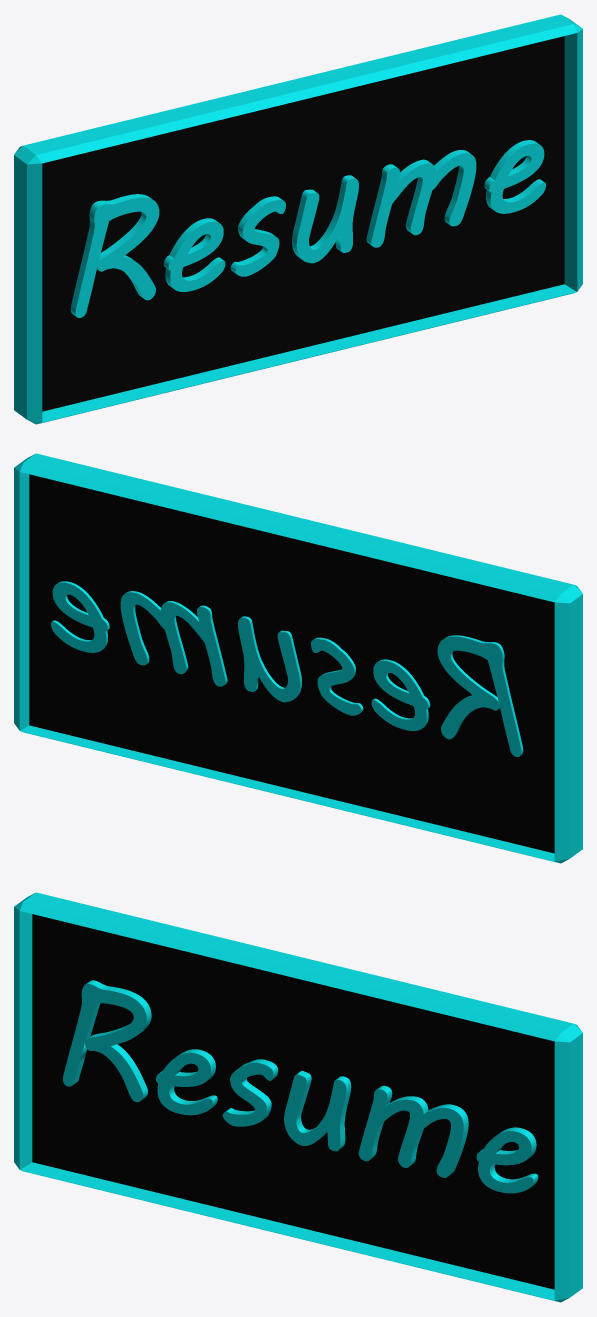
The model's file is resume.gltf.
3 renders of one model, top to bottom at view 1: azimuth 30°, elevation 25°; view 2: azimuth 150°, elevation 25°; view 3: azimuth 330°, elevation 25°, orthographic.
Parts seen in each view (by area): view 1: Cube, Resume; view 2: Cube, Resume; view 3: Cube, Resume.
Boxes of the visible parts, x1,y1,x2,y2 form: Cube: (14,14,582,424); Resume: (70,140,545,317); Cube: (14,453,582,863); Resume: (51,581,523,756); Cube: (14,892,582,1302); Resume: (63,980,538,1193).
Bounding box in the file's own units: 3.04 × 1.41 × 0.2142.
